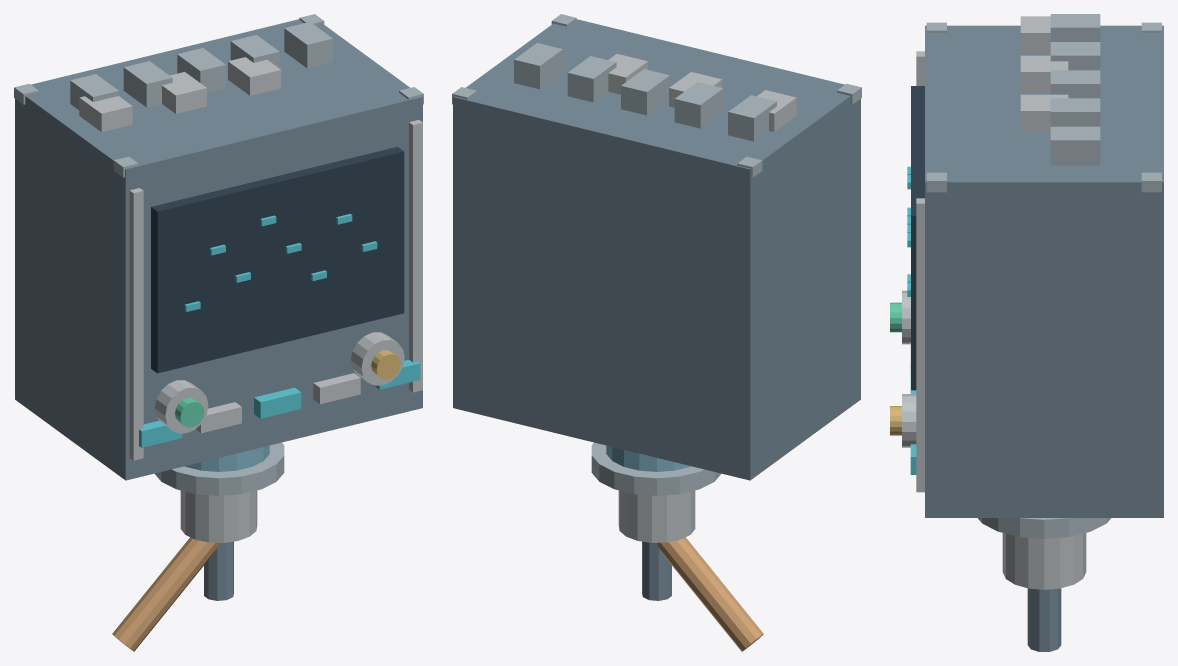
The model's file is 18_L73_SlurryMassFlowTransmitter.glb.
3 renders of one model, left to right at view 1: azimuth 30°, elevation 25°; view 2: azimuth 150°, elevation 25°; view 3: azimuth 270°, elevation 25°, orthographic. The views are drawn at different scales.
Parts seen in each view (by area): view 1: SlurryMassFlowTransmitter_Node_0000, SlurryMassFlowTransmitter_Node_0007, SlurryMassFlowTransmitter_Node_0005, SlurryMassFlowTransmitter_Node_0035, SlurryMassFlowTransmitter_Node_0034, SlurryMassFlowTransmitter_Node_0006, SlurryMassFlowTransmitter_Node_0036, SlurryMassFlowTransmitter_Node_0028, SlurryMassFlowTransmitter_Node_0023, SlurryMassFlowTransmitter_Node_0025, SlurryMassFlowTransmitter_Node_0019, SlurryMassFlowTransmitter_Node_0017 (+14 smaller); view 2: SlurryMassFlowTransmitter_Node_0000, SlurryMassFlowTransmitter_Node_0035, SlurryMassFlowTransmitter_Node_0034, SlurryMassFlowTransmitter_Node_0036, SlurryMassFlowTransmitter_Node_0025, SlurryMassFlowTransmitter_Node_0028, SlurryMassFlowTransmitter_Node_0026, SlurryMassFlowTransmitter_Node_0027, SlurryMassFlowTransmitter_Node_0024, SlurryMassFlowTransmitter_Node_0040, SlurryMassFlowTransmitter_Node_0039, SlurryMassFlowTransmitter_Node_0023 (+2 smaller); view 3: SlurryMassFlowTransmitter_Node_0000, SlurryMassFlowTransmitter_Node_0034, SlurryMassFlowTransmitter_Node_0007, SlurryMassFlowTransmitter_Node_0006, SlurryMassFlowTransmitter_Node_0040, SlurryMassFlowTransmitter_Node_0036, SlurryMassFlowTransmitter_Node_0028, SlurryMassFlowTransmitter_Node_0027, SlurryMassFlowTransmitter_Node_0024, SlurryMassFlowTransmitter_Node_0026, SlurryMassFlowTransmitter_Node_0022, SlurryMassFlowTransmitter_Node_0025 (+6 smaller).
Part boxes in pixels (<box>): SlurryMassFlowTransmitter_Node_0000: <box>15,19,422,480</box>; SlurryMassFlowTransmitter_Node_0007: <box>151,146,404,373</box>; SlurryMassFlowTransmitter_Node_0005: <box>129,188,143,460</box>; SlurryMassFlowTransmitter_Node_0035: <box>112,537,218,651</box>; SlurryMassFlowTransmitter_Node_0034: <box>180,490,257,542</box>; SlurryMassFlowTransmitter_Node_0006: <box>409,120,422,392</box>; SlurryMassFlowTransmitter_Node_0036: <box>155,442,284,495</box>; SlurryMassFlowTransmitter_Node_0028: <box>284,22,332,68</box>; SlurryMassFlowTransmitter_Node_0023: <box>228,57,281,95</box>; SlurryMassFlowTransmitter_Node_0025: <box>123,61,172,107</box>; SlurryMassFlowTransmitter_Node_0019: <box>351,332,404,385</box>; SlurryMassFlowTransmitter_Node_0017: <box>154,380,208,433</box>; SlurryMassFlowTransmitter_Node_0000: <box>453,19,860,480</box>; SlurryMassFlowTransmitter_Node_0035: <box>657,537,763,651</box>; SlurryMassFlowTransmitter_Node_0034: <box>618,490,695,542</box>; SlurryMassFlowTransmitter_Node_0036: <box>591,442,720,495</box>; SlurryMassFlowTransmitter_Node_0025: <box>674,82,723,128</box>; SlurryMassFlowTransmitter_Node_0028: <box>514,43,562,89</box>; SlurryMassFlowTransmitter_Node_0026: <box>621,69,669,115</box>; SlurryMassFlowTransmitter_Node_0027: <box>567,56,616,102</box>; SlurryMassFlowTransmitter_Node_0024: <box>728,95,776,141</box>; SlurryMassFlowTransmitter_Node_0040: <box>642,541,671,600</box>; SlurryMassFlowTransmitter_Node_0039: <box>606,445,690,471</box>; SlurryMassFlowTransmitter_Node_0023: <box>608,54,647,94</box>; SlurryMassFlowTransmitter_Node_0000: <box>925,25,1163,517</box>; SlurryMassFlowTransmitter_Node_0034: <box>1002,533,1086,589</box>; SlurryMassFlowTransmitter_Node_0007: <box>911,86,924,390</box>; SlurryMassFlowTransmitter_Node_0006: <box>916,198,924,492</box>; SlurryMassFlowTransmitter_Node_0040: <box>1027,588,1061,651</box>; SlurryMassFlowTransmitter_Node_0036: <box>978,518,1110,538</box>; SlurryMassFlowTransmitter_Node_0028: <box>1050,126,1100,165</box>; SlurryMassFlowTransmitter_Node_0027: <box>1050,98,1100,126</box>; SlurryMassFlowTransmitter_Node_0024: <box>1050,14,1100,41</box>; SlurryMassFlowTransmitter_Node_0026: <box>1050,70,1100,98</box>; SlurryMassFlowTransmitter_Node_0022: <box>1020,55,1068,91</box>; SlurryMassFlowTransmitter_Node_0025: <box>1050,42,1100,70</box>.
Bounding box in the file's own units: 0.6272 × 1.12 × 0.4585.
